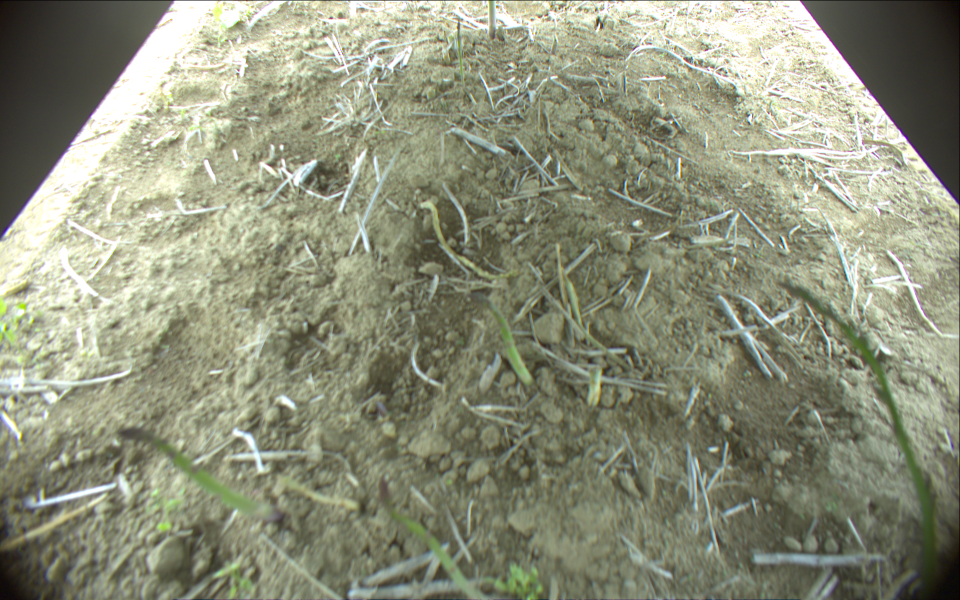aspa: (779, 276, 946, 573), (117, 428, 287, 524), (380, 477, 486, 600), (484, 299, 537, 391), (456, 19, 464, 76), (589, 368, 600, 406), (488, 1, 497, 35)
